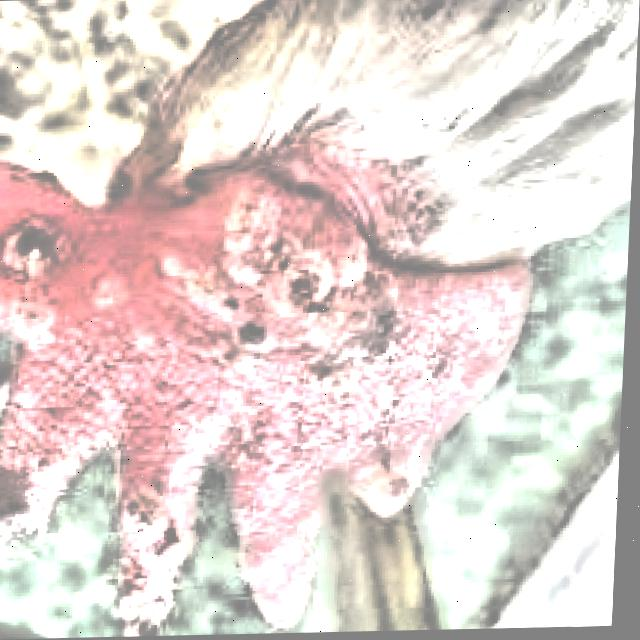Fowlpox: (0, 115, 498, 640)
